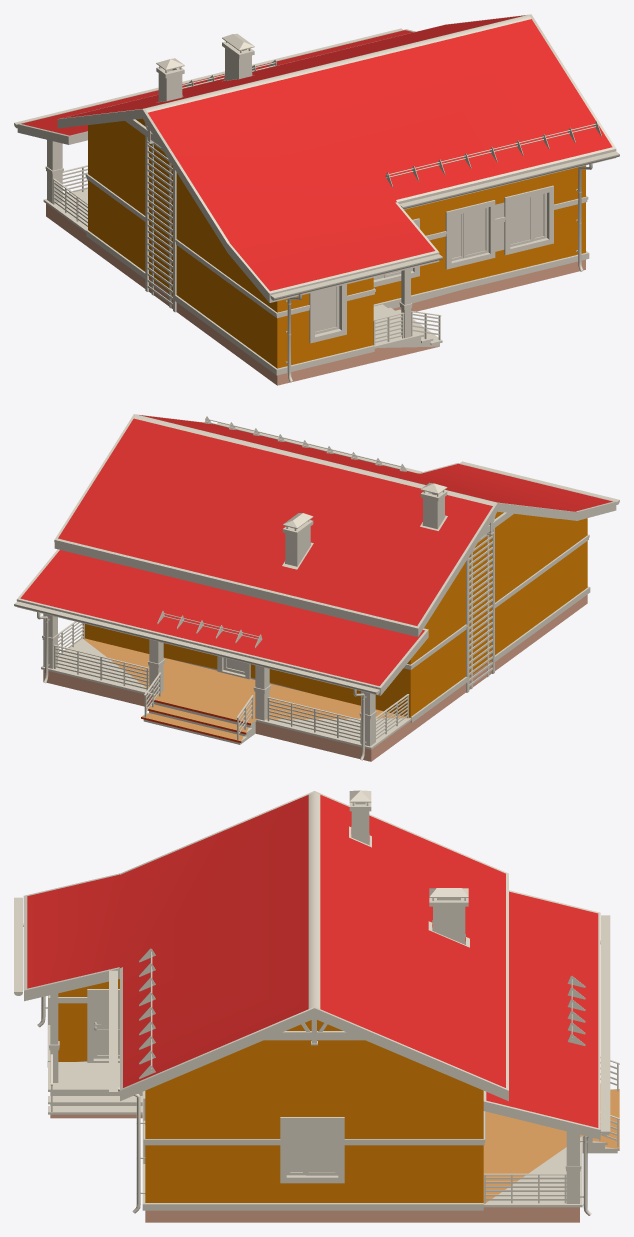
Rendered from house.fbx.
3 renders of one model, top to bottom at view 1: azimuth 30°, elevation 25°; view 2: azimuth 150°, elevation 25°; view 3: azimuth 270°, elevation 25°, orthographic. The views are drawn at different scales.
Visible parts, largest first — view 1: Cottage_Free; view 2: Cottage_Free; view 3: Cottage_Free.
Boxes of the visible parts, <box> form: Cottage_Free: <box>14,14,619,385</box>; Cottage_Free: <box>14,414,619,761</box>; Cottage_Free: <box>14,790,619,1222</box>.
Size of the model in its own units: 1244 by 675 by 1465.
